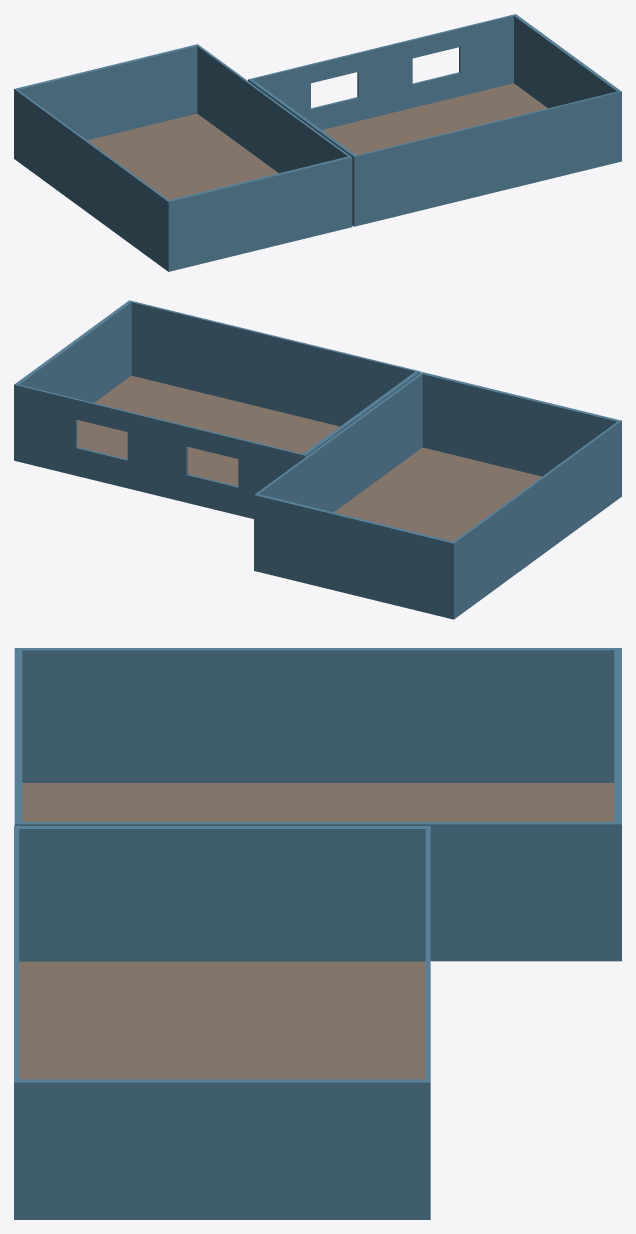
Rendered from paredesv.fbx.
The picture shows the model from 3 angles, top to bottom: view 1: azimuth 30°, elevation 25°; view 2: azimuth 150°, elevation 25°; view 3: azimuth 270°, elevation 25°; orthographic projection. The views are drawn at different scales.
Visible parts, largest first — view 1: Cube, Cube.001; view 2: Cube, Cube.001; view 3: Cube.001, Cube.
Boxes of the visible parts, left/top/right/bottom form: Cube: left=14, top=44, right=352, bottom=271; Cube.001: left=248, top=14, right=621, bottom=226; Cube: left=254, top=372, right=621, bottom=619; Cube.001: left=14, top=300, right=420, bottom=518; Cube.001: left=14, top=826, right=430, bottom=1219; Cube: left=14, top=648, right=621, bottom=961.
Bounding box in the file's own units: 11929 × 1757 × 7054.
